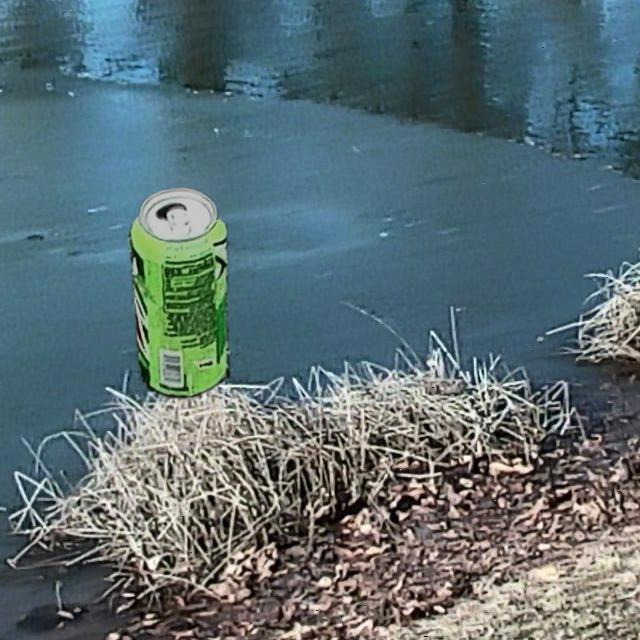Metal: (124, 184, 235, 403)
